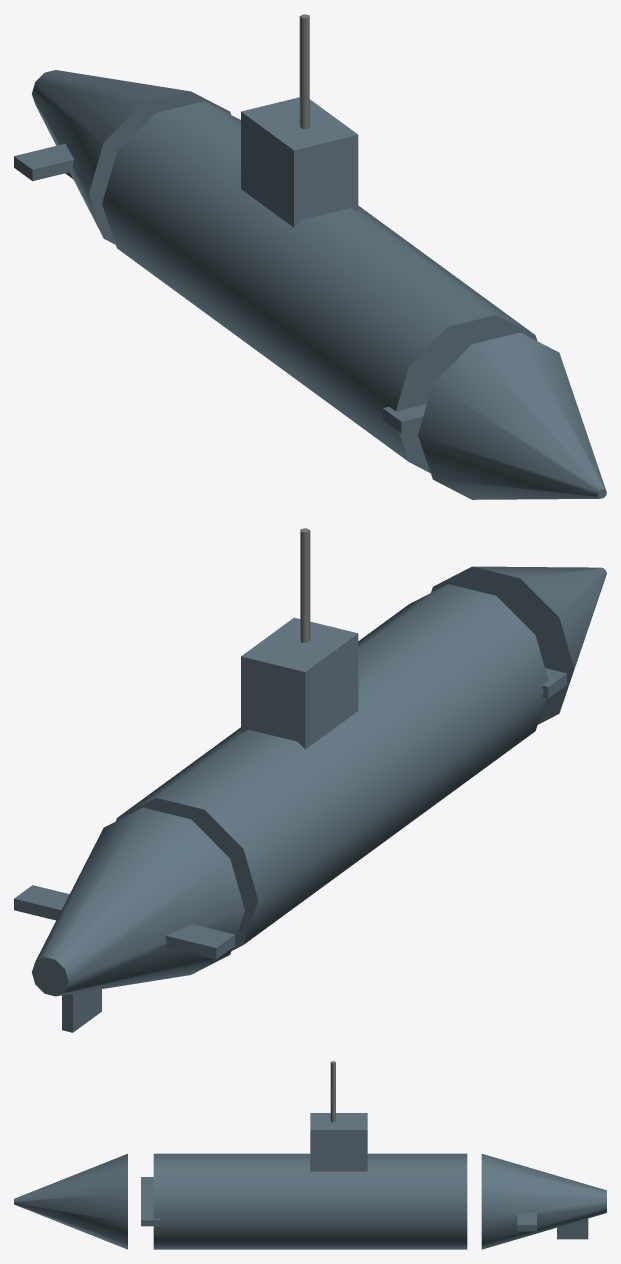
File: submarine_full.gltf
3 renders of one model, top to bottom at view 1: azimuth 30°, elevation 25°; view 2: azimuth 150°, elevation 25°; view 3: azimuth 270°, elevation 25°, orthographic. The views are drawn at different scales.
Visible parts, largest first — view 1: sub_body, sub_nose, sub_tower, sub_tail, sub_plane_A, sub_periscope, sub_plane_F; view 2: sub_body, sub_tail, sub_tower, sub_nose, sub_plane_A, sub_rudder, sub_periscope; view 3: sub_body, sub_tail, sub_nose, sub_tower, sub_plane_F, sub_rudder, sub_plane_A, sub_periscope.
Boxes of the visible parts, box(x1,y1,x2,y2) form: sub_body: box(102, 101, 537, 472); sub_nose: box(418, 332, 606, 499); sub_tower: box(241, 97, 358, 227); sub_tail: box(32, 70, 230, 244); sub_plane_A: box(14, 144, 74, 181); sub_periscope: box(299, 14, 309, 128); sub_plane_F: box(383, 404, 426, 433); sub_body: box(116, 584, 548, 950); sub_tail: box(31, 807, 244, 996); sub_tower: box(241, 617, 358, 749); sub_nose: box(431, 566, 606, 724); sub_plane_A: box(14, 885, 234, 959); sub_rudder: box(62, 989, 101, 1032); sub_periscope: box(300, 528, 310, 642); sub_body: box(153, 1153, 467, 1249); sub_tail: box(481, 1154, 606, 1249); sub_nose: box(14, 1153, 127, 1249); sub_tower: box(310, 1113, 367, 1171); sub_plane_F: box(141, 1177, 160, 1226); sub_rudder: box(557, 1218, 588, 1239); sub_plane_A: box(517, 1211, 536, 1231); sub_periscope: box(330, 1061, 335, 1122).
Bounding box in the file's own units: 2.2 × 3.51 × 10.4.
